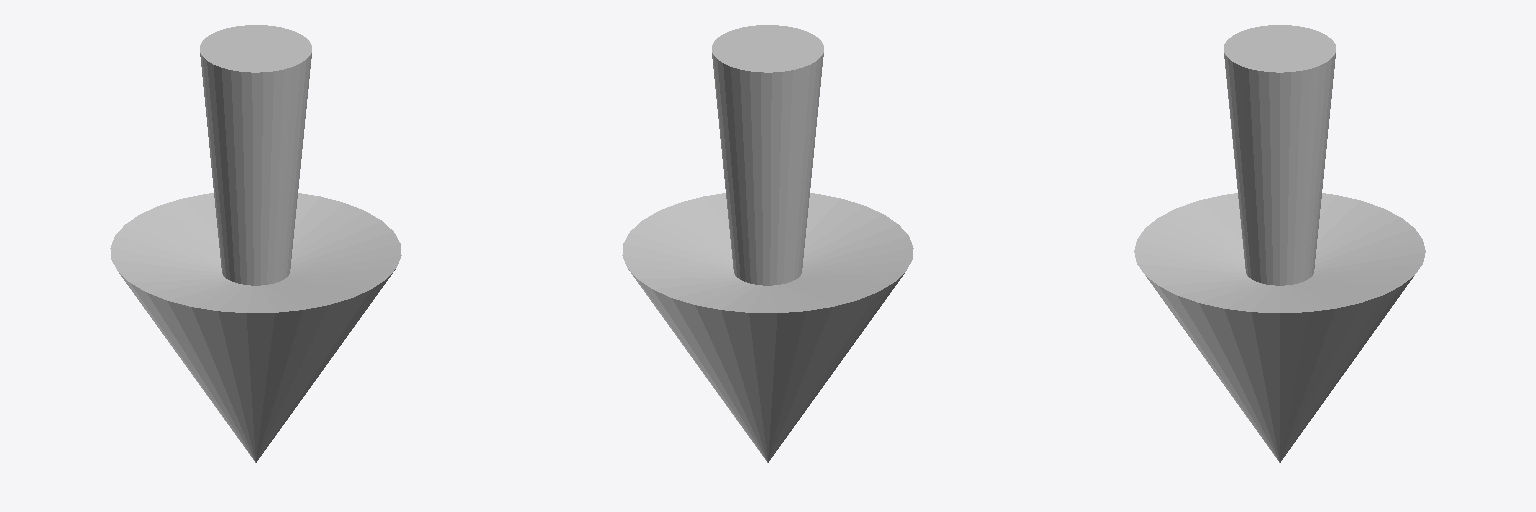
Rendered from InGameArrowModel.obj.
The picture shows the model from 3 angles: view 1: azimuth 30°, elevation 25°; view 2: azimuth 150°, elevation 25°; view 3: azimuth 270°, elevation 25°; orthographic projection.
Parts seen in each view (by area): view 1: Cylinder; view 2: Cylinder; view 3: Cylinder.
Part boxes in pixels (bbox=[...]): Cylinder: bbox=[110, 25, 401, 462]; Cylinder: bbox=[622, 25, 913, 462]; Cylinder: bbox=[1134, 25, 1425, 462].
Size of the model in its own units: 8.5 by 13.33 by 8.5.